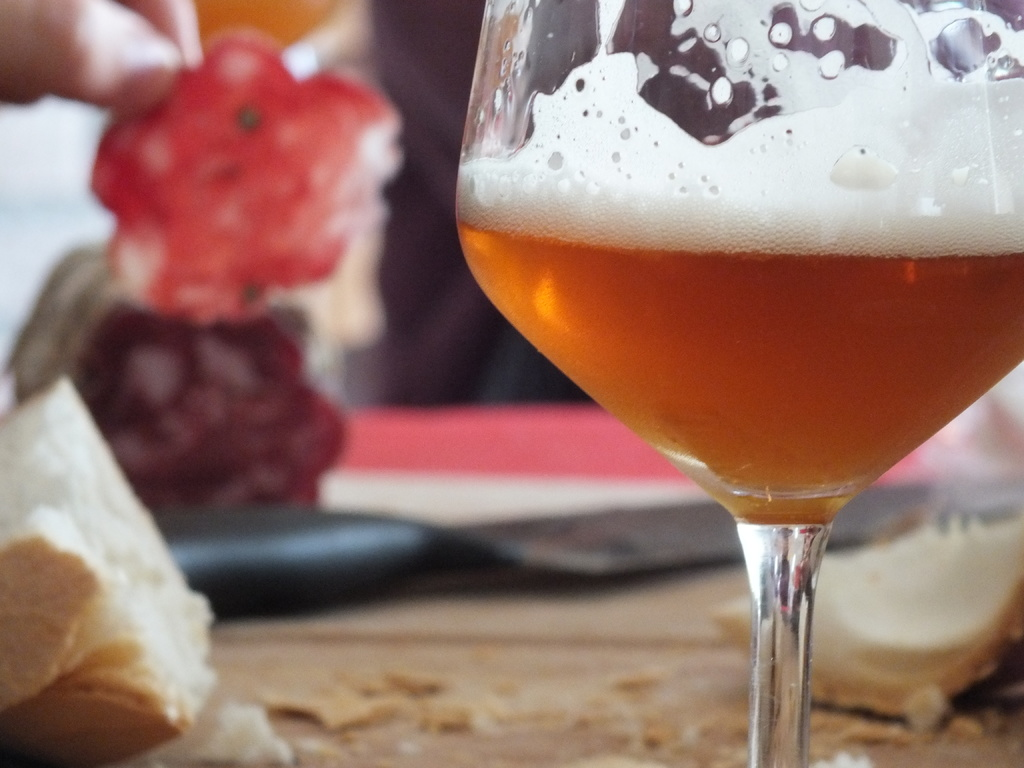Beer: (455, 215, 1023, 517)
